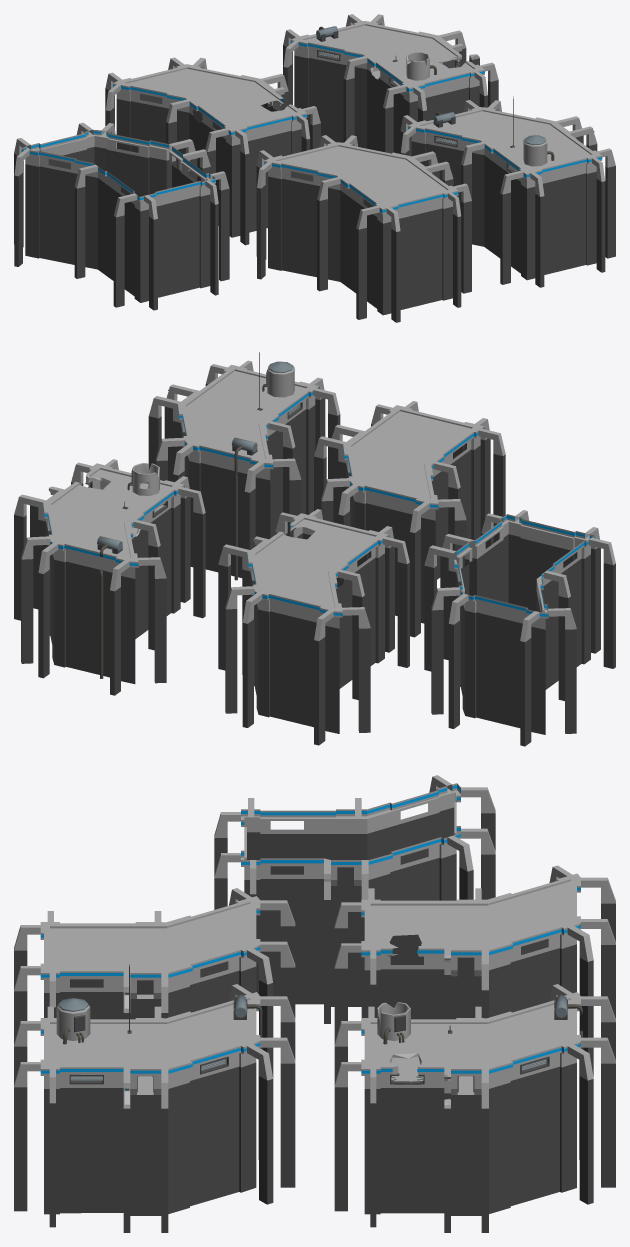
The model's file is OB_House #2.fbx.
The picture shows the model from 3 angles, top to bottom: view 1: azimuth 30°, elevation 25°; view 2: azimuth 150°, elevation 25°; view 3: azimuth 270°, elevation 25°; orthographic projection. The views are drawn at different scales.
Visible parts, largest first — view 1: Model_1(0), Model_Skybox, Model_0(0), Model_0(1), Model_1(1); view 2: Model_0(1), Model_Skybox, Model_1(1), Model_0(0), Model_1(0); view 3: Model_0(0), Model_0(1), Model_Skybox, Model_1(1), Model_1(0).
Part boxes in pixels (x1,y1,x2,y2): Model_1(0): (256,135,471,322); Model_Skybox: (14,122,229,310); Model_0(0): (400,96,615,287); Model_0(1): (283,14,498,156); Model_1(1): (105,57,320,245); Model_0(1): (14,459,205,695); Model_Skybox: (424,510,615,746); Model_1(1): (218,509,409,745); Model_0(0): (148,352,340,580); Model_1(0): (314,401,505,637); Model_0(0): (14,964,295,1232); Model_0(1): (334,984,615,1232); Model_Skybox: (214,775,495,1023); Model_1(1): (334,865,615,1076); Model_1(0): (14,888,295,1078).
Size of the model in its own units: 11098 by 3540 by 9013.
